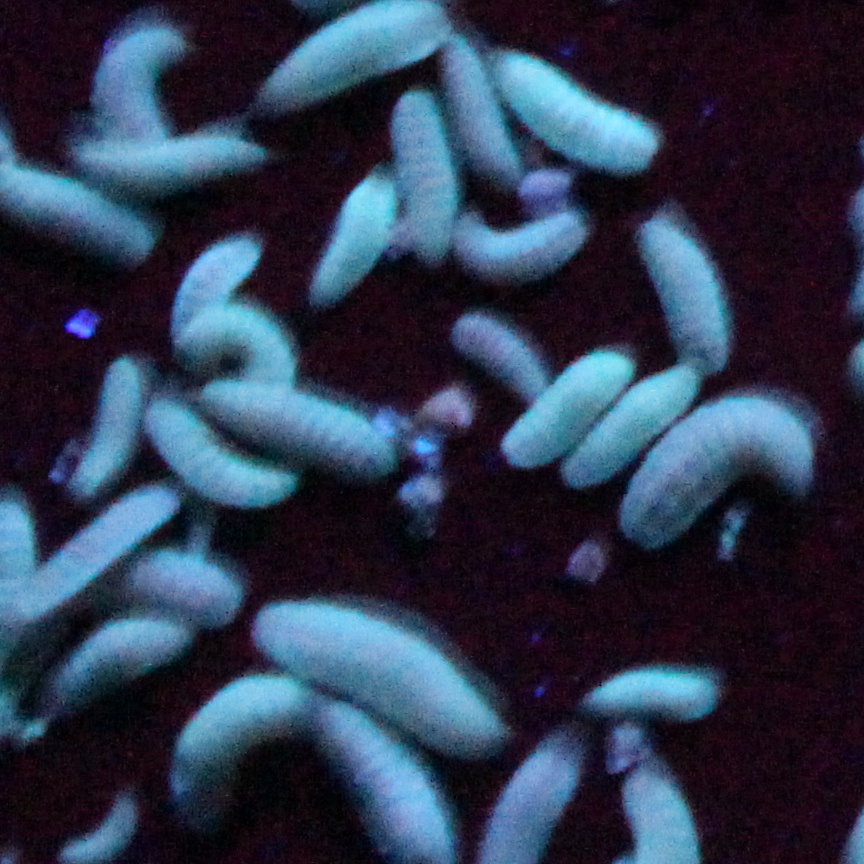larve: (252, 602, 505, 754), (618, 397, 812, 545), (17, 486, 173, 614), (496, 55, 656, 171), (202, 381, 388, 476), (170, 674, 306, 800), (146, 398, 296, 507), (563, 368, 697, 489), (500, 351, 631, 466), (437, 36, 520, 187), (639, 223, 725, 367), (51, 620, 183, 706), (392, 91, 453, 263), (94, 29, 184, 144), (313, 175, 392, 300), (70, 359, 140, 497), (453, 213, 586, 281), (181, 309, 294, 380), (133, 553, 239, 624), (454, 318, 543, 402), (70, 140, 261, 177), (585, 668, 718, 720), (173, 239, 259, 317), (57, 795, 136, 863)
